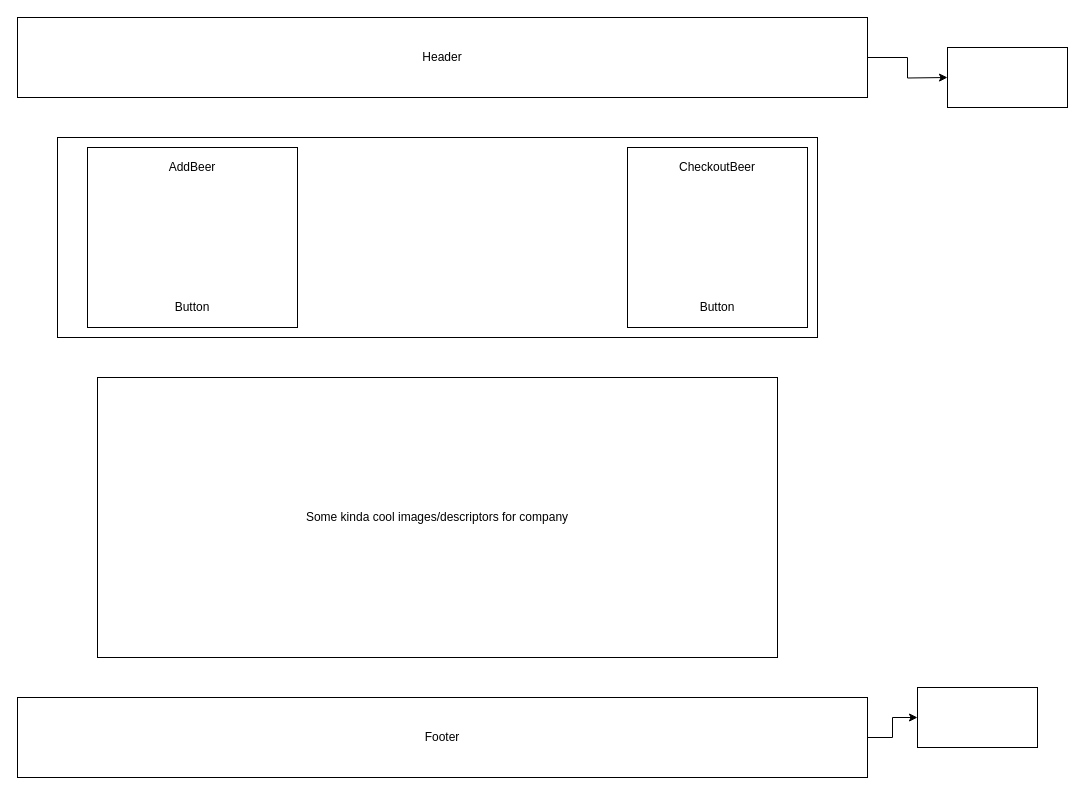
Some shapes in this 1085 by 795 pixel diagram are drawn without their labels. Each missing label, with the centre of its shape:
Footer.js: the point at 977,717
Header.Js: the point at 1007,77
